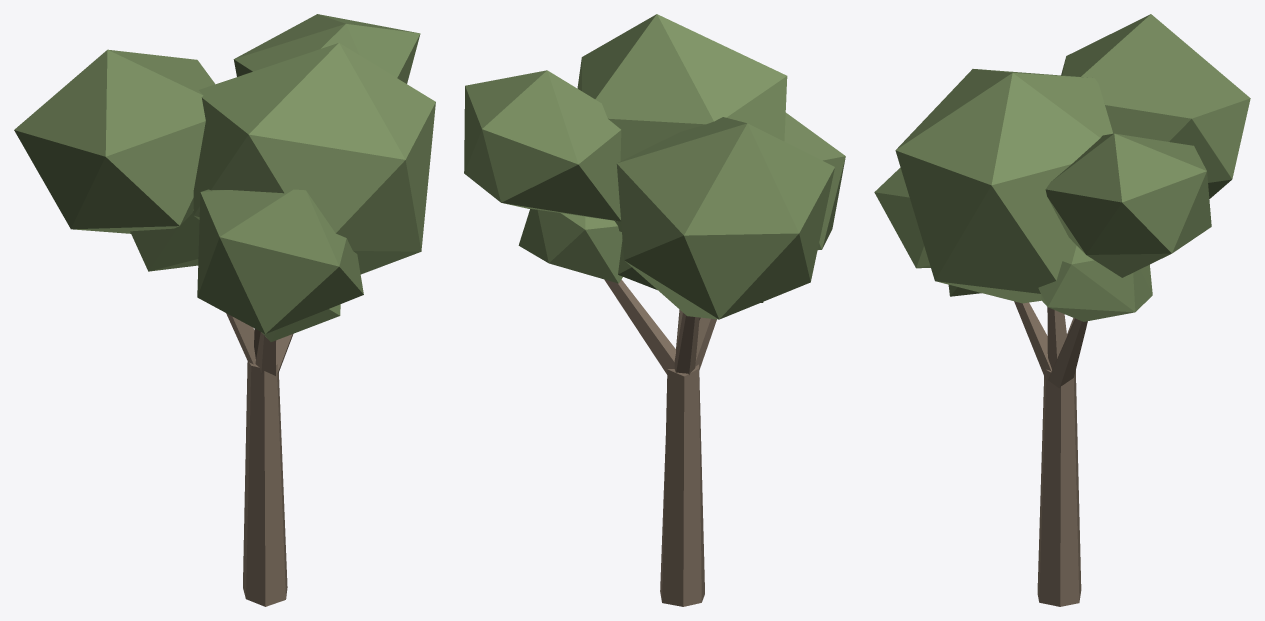
The model's file is broadleaf_3.glb.
3 renders of one model, left to right at view 1: azimuth 30°, elevation 25°; view 2: azimuth 150°, elevation 25°; view 3: azimuth 270°, elevation 25°, orthographic.
Parts seen in each view (by area): view 1: broadleaf_3.001; view 2: broadleaf_3.001; view 3: broadleaf_3.001.
Part boxes in pixels (x1,y1,x2,y2): broadleaf_3.001: (14,14,435,606); broadleaf_3.001: (464,14,845,606); broadleaf_3.001: (874,14,1250,606).
Size of the model in its own units: 9.73 by 14 by 8.68.
